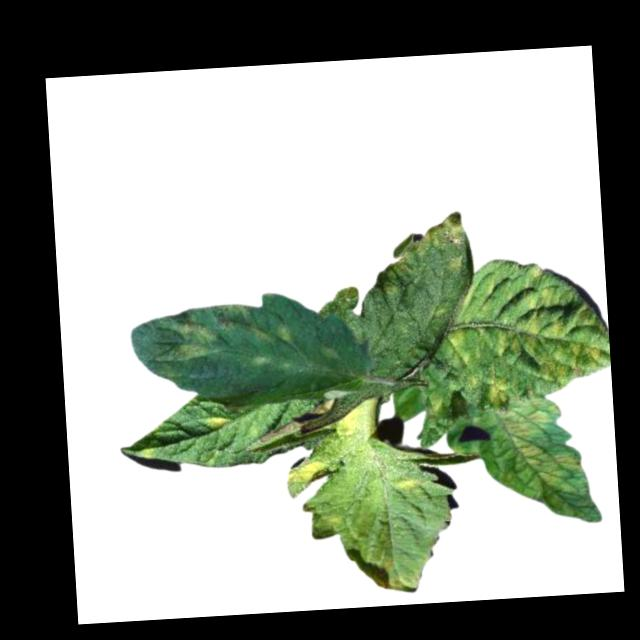Leaf_Mold: (442, 253, 610, 388), (490, 394, 603, 529), (370, 210, 471, 289), (151, 301, 253, 362), (374, 557, 425, 593), (286, 458, 335, 491), (253, 320, 297, 347), (484, 376, 513, 409), (203, 414, 234, 434), (392, 478, 419, 495)
